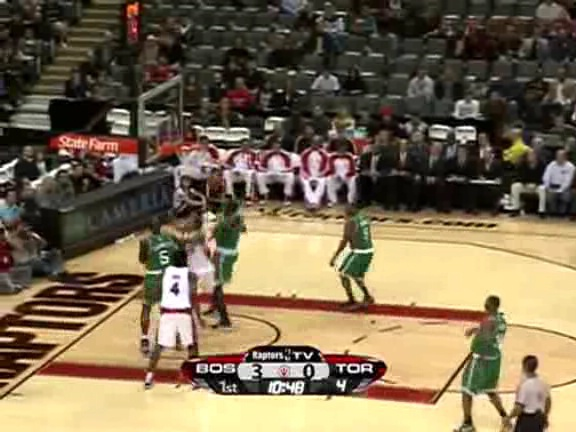person: (345, 208, 379, 289), (344, 208, 378, 289), (346, 208, 380, 289), (345, 207, 379, 288), (345, 209, 379, 290)
target_negative: (225, 104, 573, 269), (104, 77, 397, 190), (262, 332, 518, 384), (268, 62, 450, 95), (325, 305, 371, 421), (446, 304, 506, 337)
